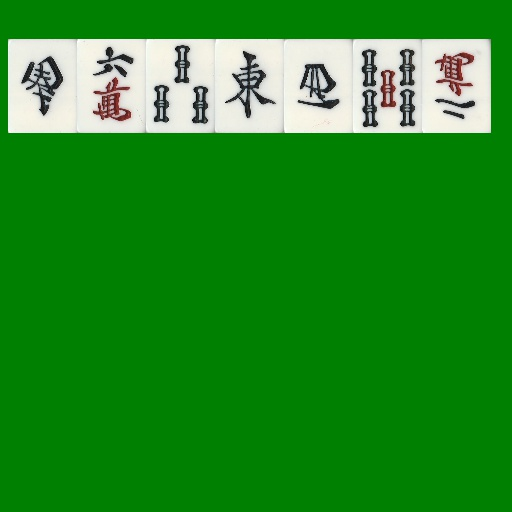2m: (422, 39, 491, 133)
3s: (146, 39, 215, 133)
5s: (353, 39, 422, 133)
6m: (77, 39, 146, 133)
east: (215, 39, 284, 133)
south: (8, 39, 77, 133)
west: (284, 39, 353, 133)
